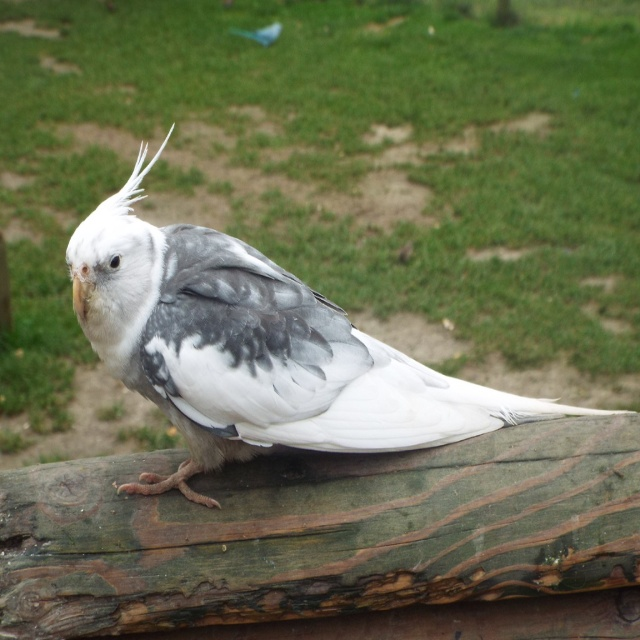Parrot: (62, 115, 636, 518)
